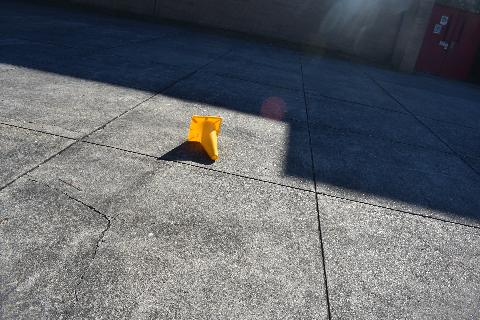cone: (188, 116, 222, 160)
